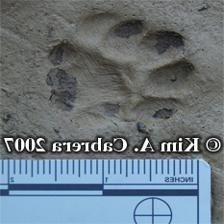cat: (46, 11, 200, 129)
